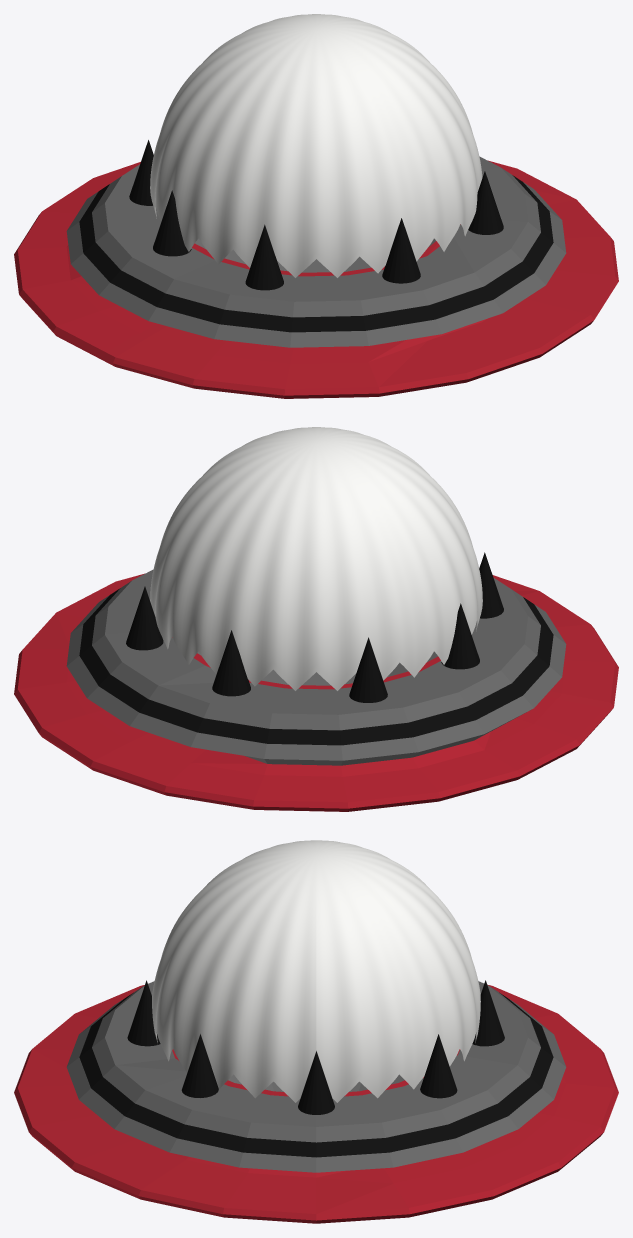
The model's file is fable_t02.glb.
3 renders of one model, top to bottom at view 1: azimuth 30°, elevation 25°; view 2: azimuth 150°, elevation 25°; view 3: azimuth 270°, elevation 25°, orthographic.
Parts seen in each view (by area): view 1: slot_anchor_saucer, parachute_canopy; view 2: slot_anchor_saucer, parachute_canopy; view 3: slot_anchor_saucer, parachute_canopy.
Boxes of the visible parts, left/top/right/bottom form: slot_anchor_saucer: left=14, top=140, right=618, bottom=398; parachute_canopy: left=150, top=14, right=482, bottom=277; slot_anchor_saucer: left=14, top=552, right=618, bottom=811; parachute_canopy: left=150, top=427, right=482, bottom=690; slot_anchor_saucer: left=14, top=980, right=618, bottom=1223; parachute_canopy: left=152, top=840, right=480, bottom=1102.
Size of the model in its own units: 2 by 1.21 by 2.
2 materials, 1 textured.
